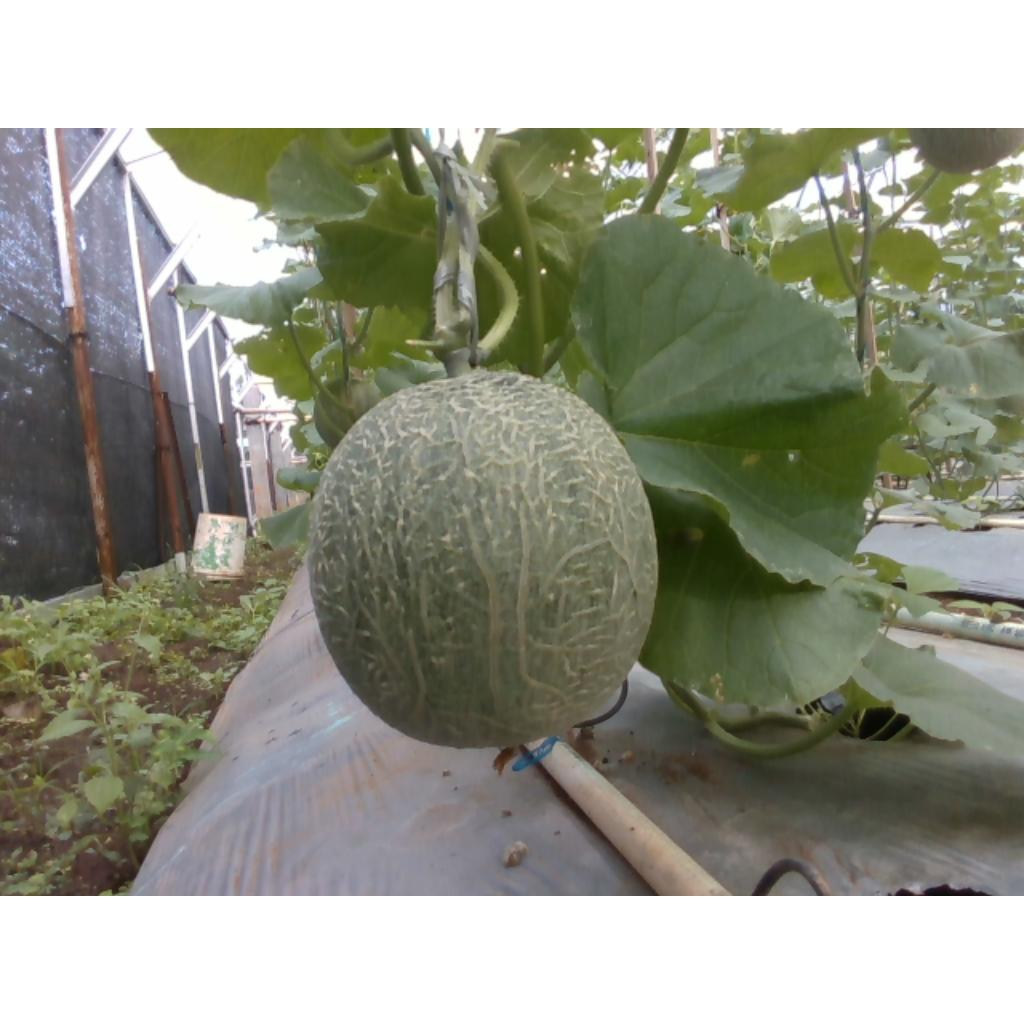melon: (309, 371, 659, 748)
